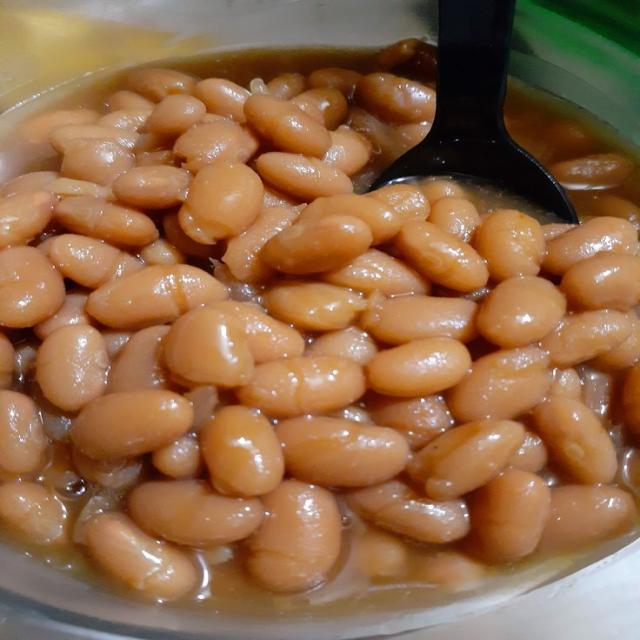beans: (248, 480, 340, 591), (86, 513, 197, 600), (276, 417, 409, 487), (407, 421, 524, 499), (87, 265, 227, 330), (128, 481, 262, 546), (72, 391, 193, 459), (347, 480, 469, 543), (237, 357, 365, 417), (447, 348, 551, 421), (200, 406, 284, 496), (469, 470, 550, 562), (534, 397, 617, 484), (164, 308, 253, 387), (179, 162, 263, 243), (395, 220, 488, 292), (262, 216, 373, 275), (477, 276, 566, 348), (36, 325, 109, 412), (367, 338, 471, 397), (541, 485, 635, 550), (210, 301, 304, 363), (360, 295, 477, 344), (222, 207, 298, 282), (543, 216, 638, 274), (244, 94, 331, 157), (0, 247, 65, 328), (47, 235, 144, 289), (541, 310, 632, 367), (300, 194, 402, 244), (474, 210, 545, 281), (54, 197, 158, 245), (265, 282, 366, 331), (324, 249, 430, 295), (366, 395, 453, 450), (349, 107, 430, 165), (560, 252, 639, 311), (256, 153, 353, 201), (174, 121, 259, 172), (0, 482, 66, 545), (107, 326, 169, 392), (356, 73, 435, 123), (0, 391, 46, 474), (113, 165, 191, 209), (61, 139, 135, 185), (0, 191, 56, 249), (413, 551, 486, 593), (549, 154, 633, 189), (73, 448, 141, 490), (34, 290, 92, 339), (591, 312, 639, 371), (20, 109, 99, 144), (307, 327, 377, 365), (49, 124, 139, 153), (147, 94, 206, 138), (38, 444, 86, 497), (194, 78, 250, 123), (323, 126, 373, 176), (354, 530, 408, 576), (292, 87, 347, 130), (376, 38, 435, 78), (162, 212, 211, 259), (127, 69, 196, 102), (429, 198, 480, 242), (368, 184, 430, 220), (152, 435, 202, 478), (581, 367, 613, 420), (307, 68, 362, 98), (0, 171, 59, 198), (508, 432, 547, 472), (592, 194, 639, 227), (184, 386, 219, 430), (98, 108, 153, 132), (48, 177, 112, 197), (622, 363, 639, 437), (139, 239, 186, 265), (420, 179, 466, 205), (548, 368, 581, 399), (267, 73, 306, 99), (264, 185, 300, 212), (14, 342, 37, 382), (327, 404, 373, 424), (290, 99, 325, 125), (103, 331, 133, 360), (0, 332, 15, 389), (134, 133, 166, 154), (542, 224, 575, 242), (136, 150, 173, 166)
